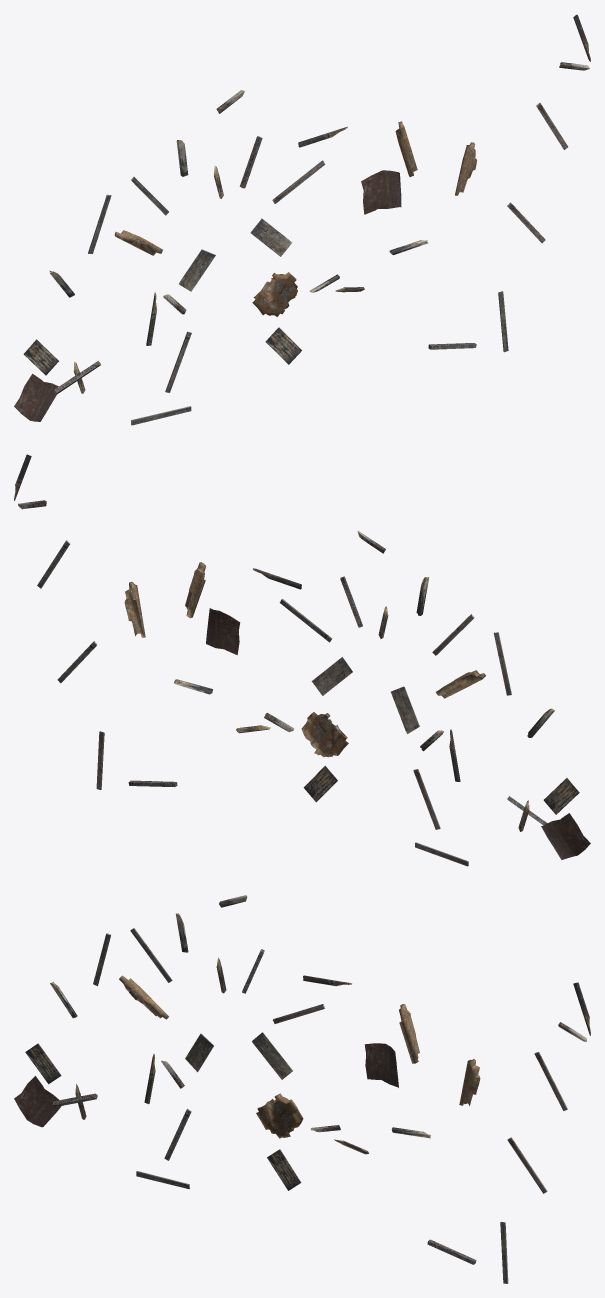
Rendered from env_19_14_FieldJunk_02.glb.
3 renders of one model, top to bottom at view 1: azimuth 30°, elevation 25°; view 2: azimuth 150°, elevation 25°; view 3: azimuth 330°, elevation 25°, orthographic.
Visible parts, largest first — view 1: set_0_group_0; view 2: set_0_group_0; view 3: set_0_group_0.
Part boxes in pixels (bbox=[...]): set_0_group_0: bbox=[14, 14, 590, 425]; set_0_group_0: bbox=[14, 454, 590, 866]; set_0_group_0: bbox=[14, 895, 590, 1283].
Bounding box in the file's own units: 11.85 × 6.35 × 0.2467.
Materials: 1 (1 with a texture image).
